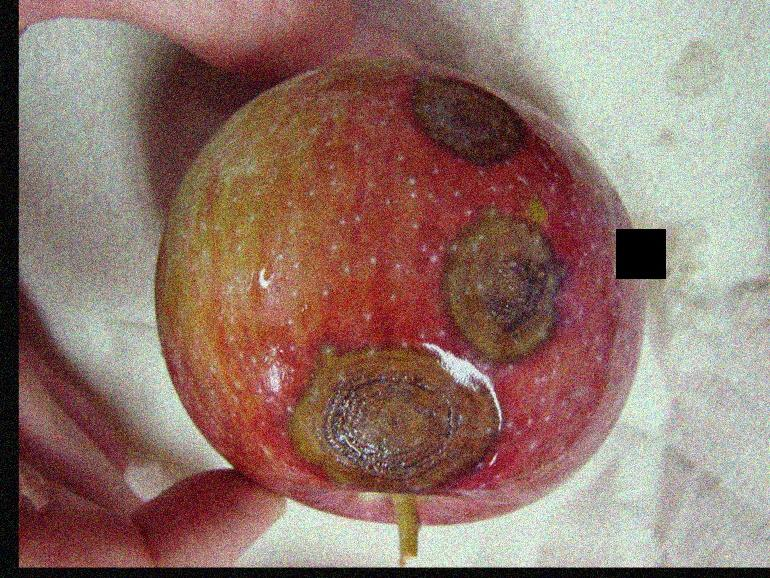rotten apple: (150, 62, 642, 529)
